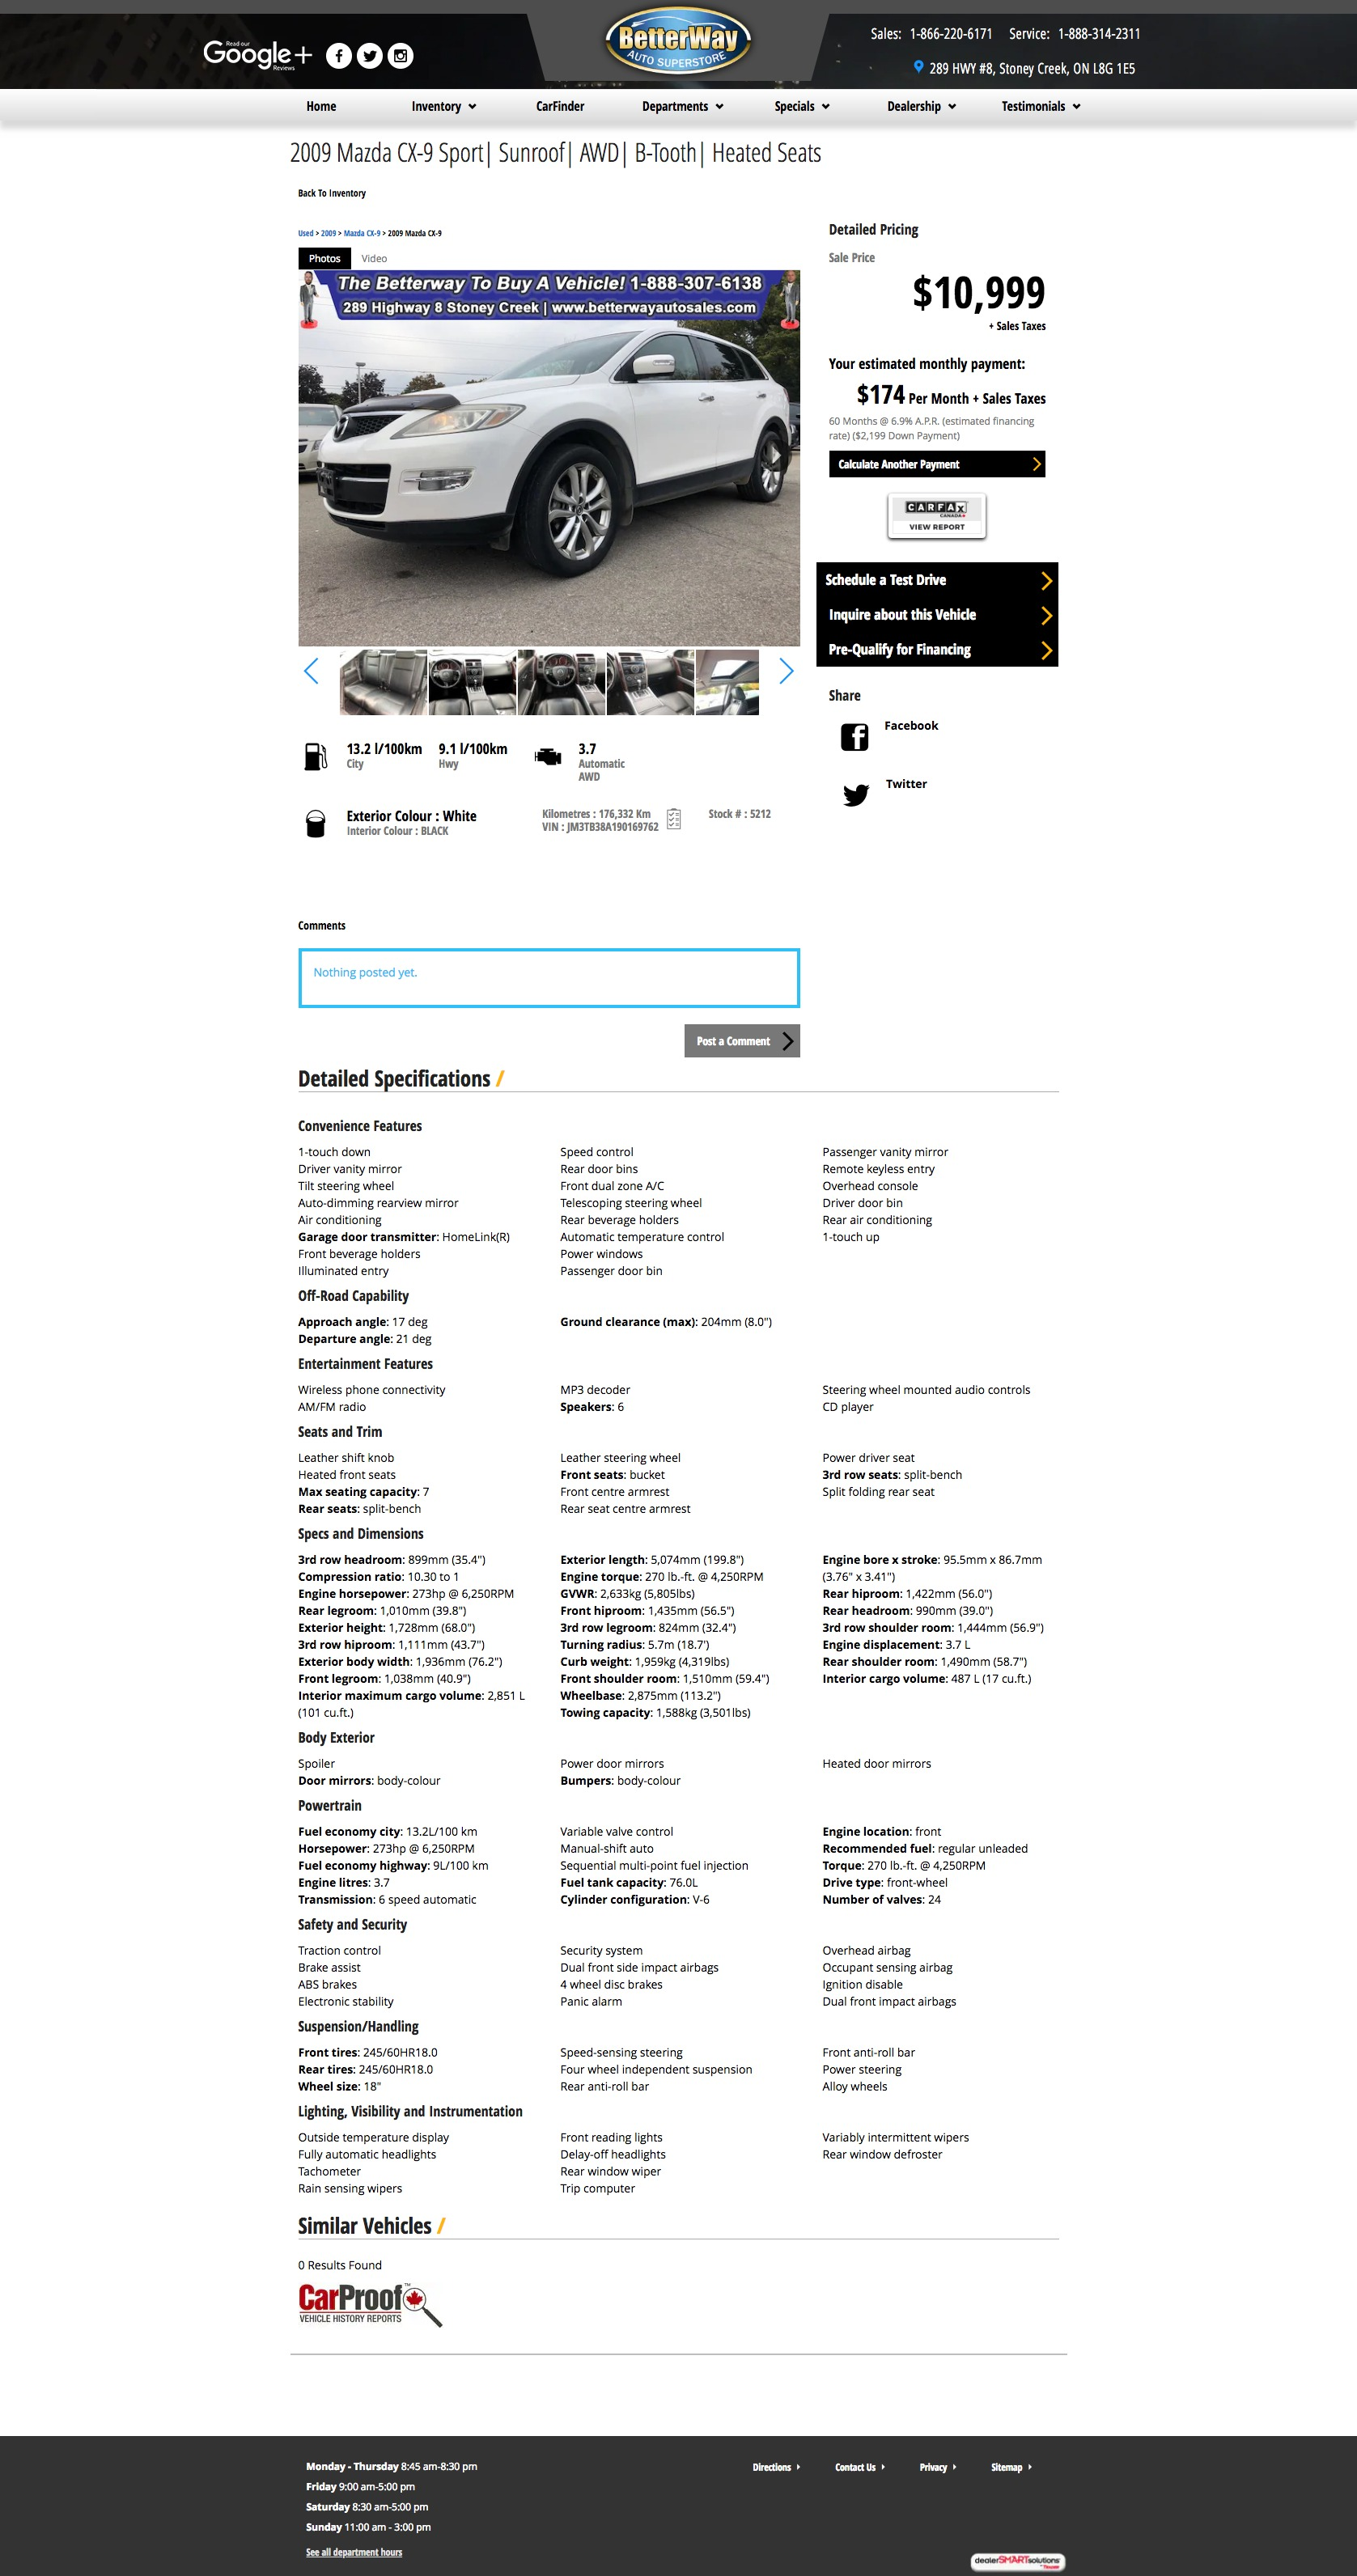car: (779, 659, 794, 685)
